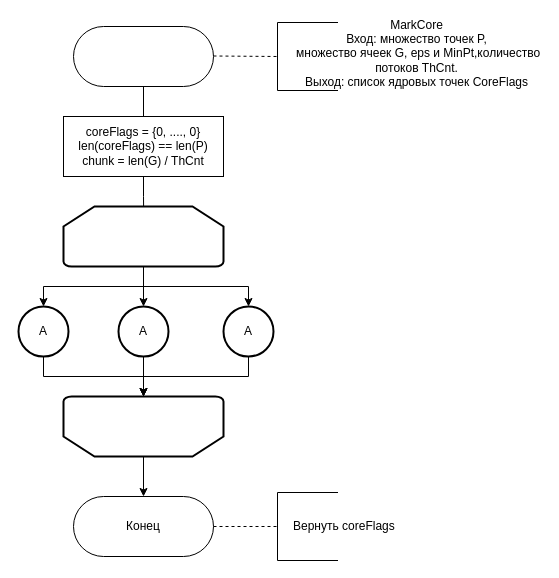
Image size: 559x578. Some labels were removed from this diagram. Each missing label, with the centre of its shape:
"Конец цикла 1" belongs at point 143,426.
"Начало" belongs at point 143,56.
"Цикл 1 Паралелльно i = 1; i <= len(G); i = i+chunk" belongs at point 143,236.
